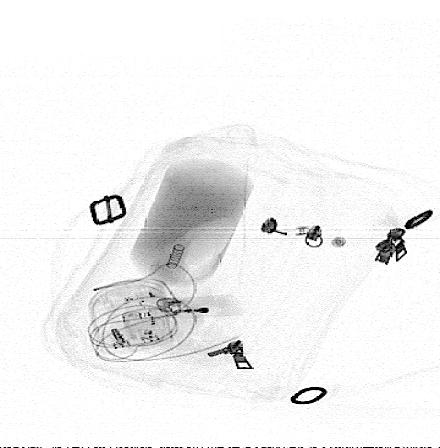Lighter: (155, 294, 246, 320)
